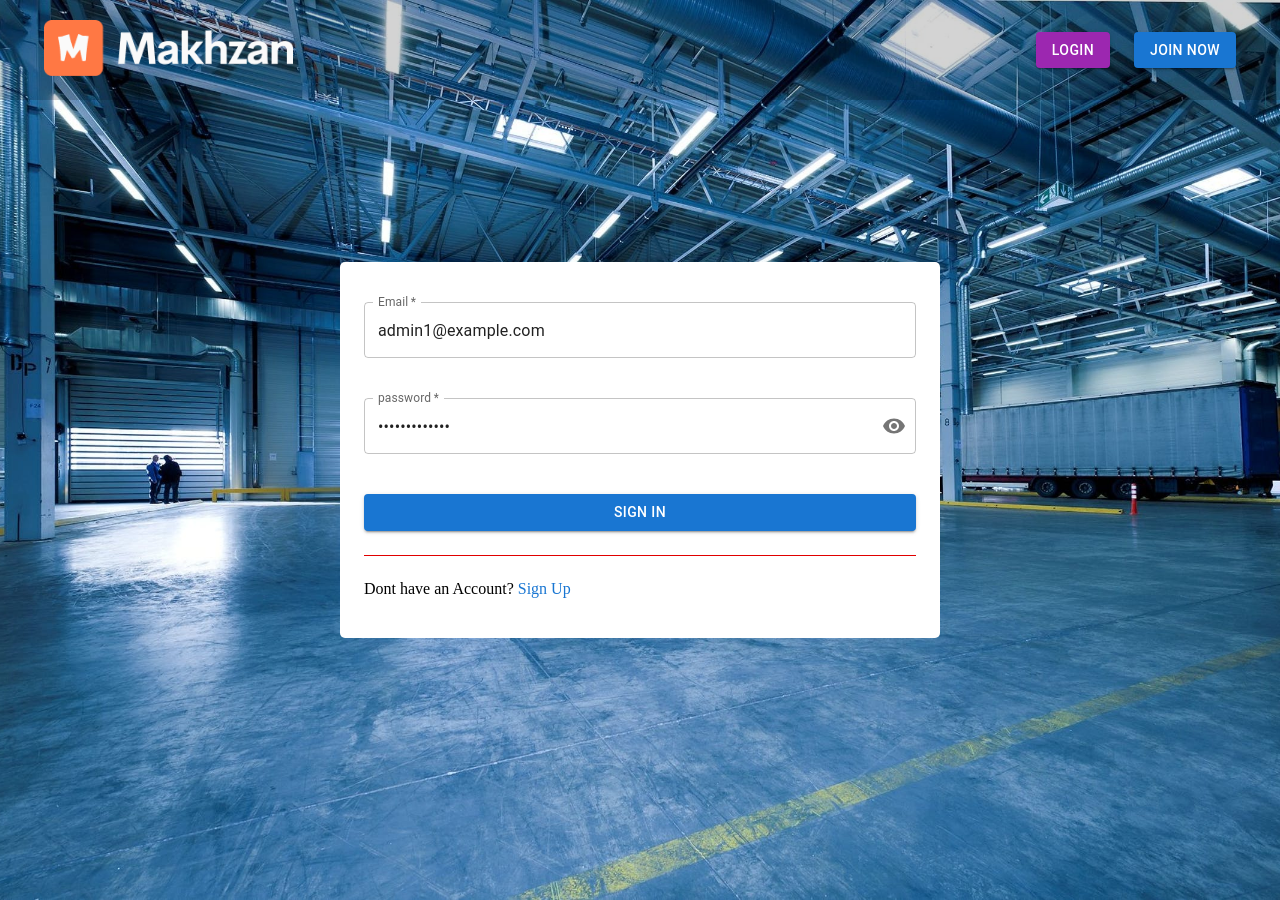
Test: Landing Page Reduxified Container › should render landing navbar with protected routes
The image size is (1280, 900).
Expected: the text "post warehouse" is not shown
Expected: the text "logout" is not shown
What coordinates should you click on to do the following:
click the button "Sign In"
I would click on:
 (640, 513)
Its box is [364,494,916,531].
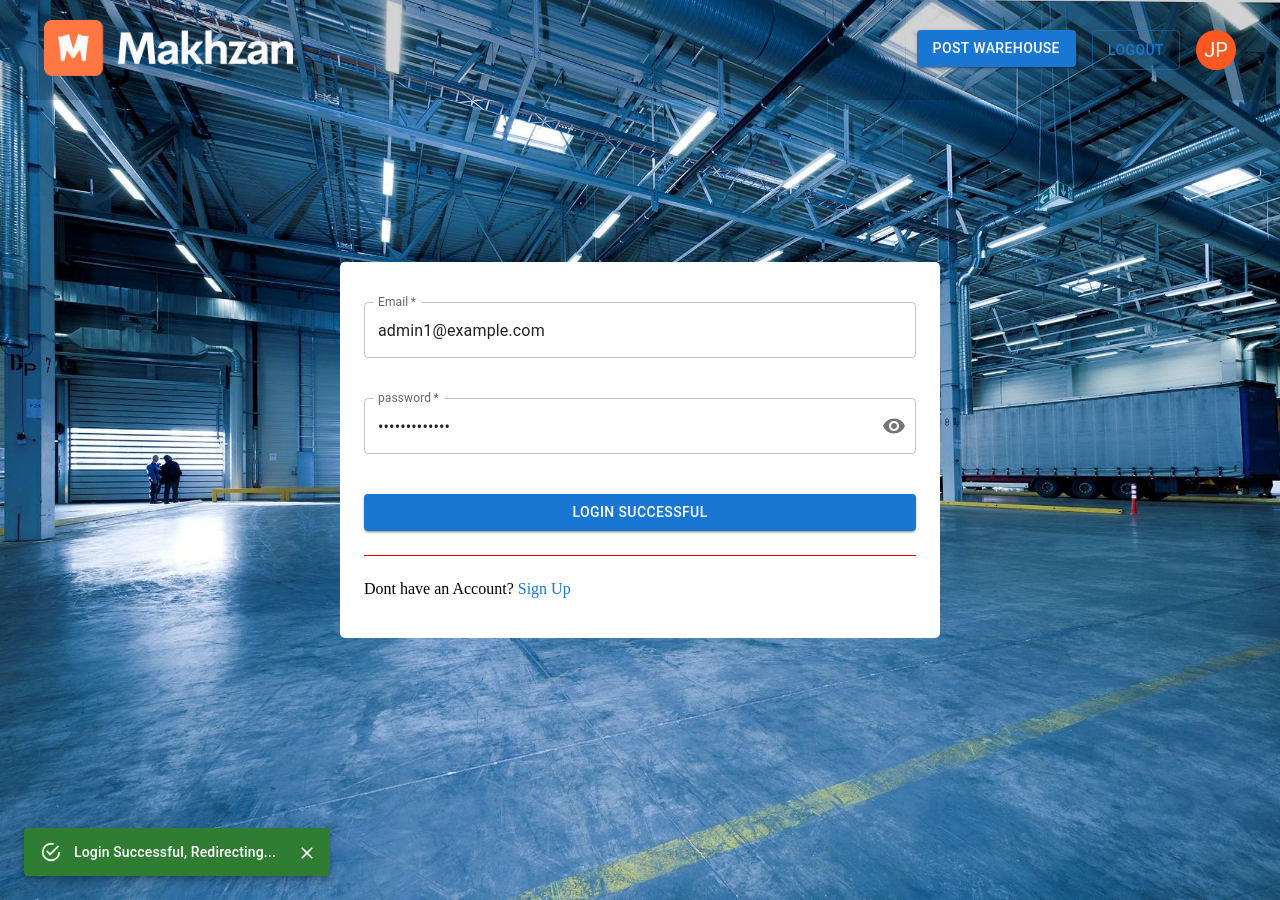
Now the button "Post Warehouse" is shown, box [916,30,1076,66]
Now the button "Logout" is shown, box [1092,30,1180,70]
